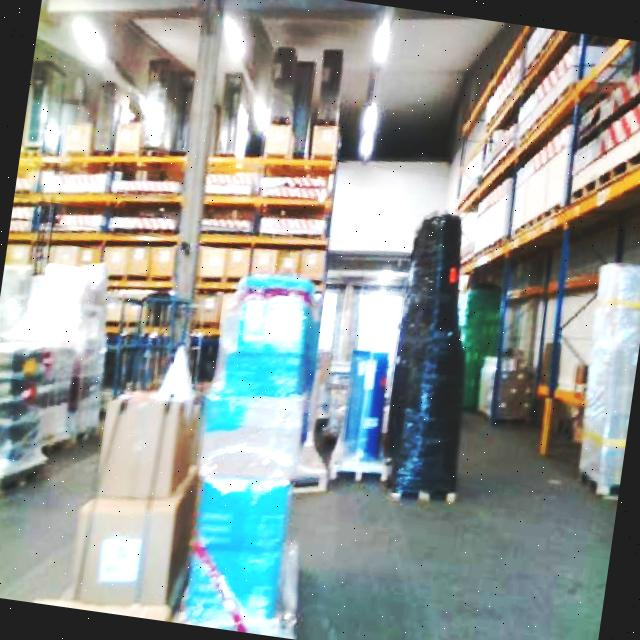ground: (0, 339, 627, 640)
pallet: (394, 18, 640, 572), (0, 108, 344, 418), (435, 18, 640, 301)
